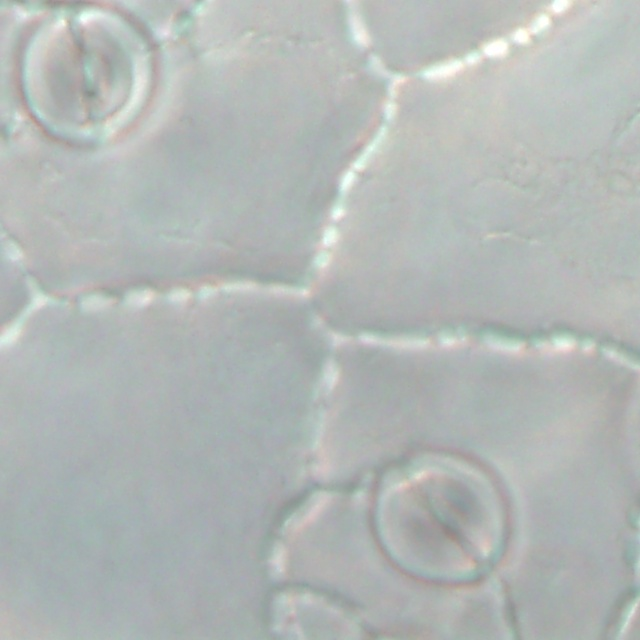center: (423, 486, 468, 544), (76, 45, 110, 106), (298, 608, 342, 617)
stomata-huw1: (19, 4, 157, 145), (372, 450, 510, 582), (270, 586, 370, 639)
